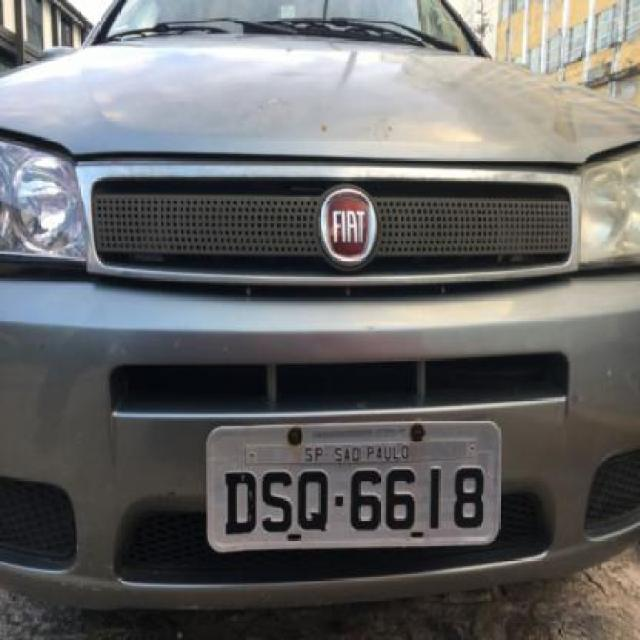old_plate: (200, 413, 507, 558)
